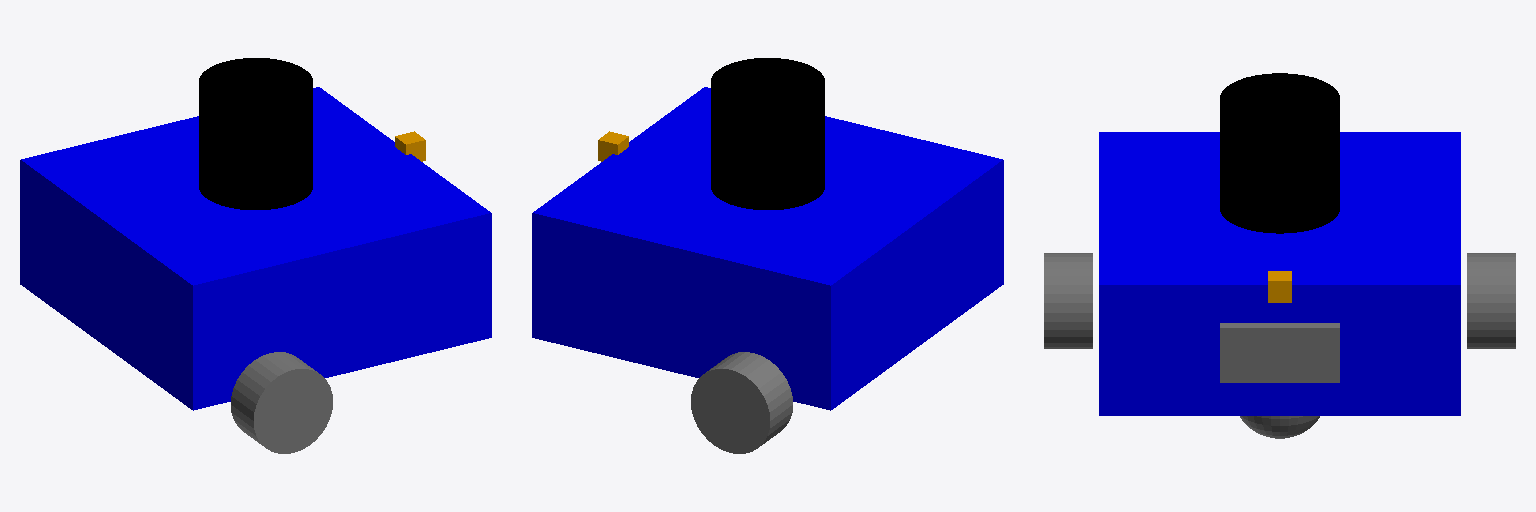
The robot description file, URDF, robot "my_robot":
<?xml version="1.0" ?> <!-- =================================================================================== --> <!-- |    This document was autogenerated by xacro from /ros2_ws/install/my_robot_description/share/my_robot_description/urdf/my_robot.urdf.xacro | --> <!-- |    EDITING THIS FILE BY HAND IS NOT RECOMMENDED                                 | --> <!-- =================================================================================== --> <!-- Dummy commit --> <robot name="my_robot"> <!-- Added xacro function for modularity --> <material name="red"> <color rgba="1 0 0 1"/> </material> <material name="blue"> <color rgba="0 0 1 1"/> </material> <material name="grey"> <color rgba="0.5 0.5 0.5 1"/> </material> <material name="black"> <color rgba="0 0 0 1"/> </material> <link name="base_link"> <visual> <geometry> <box size="0.3 0.3 0.12"/> </geometry> <origin rpy="0 0 0" xyz="0 0 0.06"/> <material name="blue"/> </visual> <inertial> <mass value="5.0"/> <origin rpy="0 0 0" xyz="0 0 0.06"/> <inertia ixx="0.04349999999999999" ixy="0.0" ixz="0.0" iyy="0.04349999999999999" iyz="0.0" izz="0.075"/> </inertial> <collision> <geometry> <box size="0.3 0.3 0.12"/> </geometry> <origin rpy="0 0 0" xyz="0 0 0.06"/> </collision> </link> <link name="base_footprint"> </link> <link name="right_wheel_link"> <visual> <geometry> <cylinder length="0.04" radius="0.04"/> </geometry> <origin rpy="1.5708 0 0" xyz="0 0 0"/> <material name="grey"/> </visual> <inertial> <mass value="1.0"/> <origin rpy="1.5708 0 0" xyz="0 0 0"/> <inertia ixx="0.0005333333333333333" ixy="0.0" ixz="0.0" iyy="0.0005333333333333333" iyz="0.0" izz="0.0008"/> </inertial> <collision> <geometry> <cylinder length="0.04" radius="0.04"/> </geometry> <origin rpy="1.5708 0 0" xyz="0 0 0"/> </collision> </link> <link name="left_wheel_link"> <visual> <geometry> <cylinder length="0.04" radius="0.04"/> </geometry> <origin rpy="1.5708 0 0" xyz="0 0 0"/> <material name="grey"/> </visual> <inertial> <mass value="1.0"/> <origin rpy="1.5708 0 0" xyz="0 0 0"/> <inertia ixx="0.0005333333333333333" ixy="0.0" ixz="0.0" iyy="0.0005333333333333333" iyz="0.0" izz="0.0008"/> </inertial> <collision> <geometry> <cylinder length="0.04" radius="0.04"/> </geometry> <origin rpy="1.5708 0 0" xyz="0 0 0"/> </collision> </link> <link name="castor_wheel_link"> <visual> <geometry> <sphere radius="0.04"/> </geometry> <origin rpy="0 0 0" xyz="0 0 0"/> <material name="grey"/> </visual> <inertial> <mass value="0.5"/> <origin rpy="0 0 0" xyz="0 0 -0.04"/> <inertia ixx="0.00032" ixy="0.0" ixz="0.0" iyy="0.00032" iyz="0.0" izz="0.00032"/> </inertial> <collision> <geometry> <sphere radius="0.04"/> </geometry> <origin rpy="0 0 0" xyz="0 0 0"/> </collision> </link> <joint name="base_to_right_wheel" type="continuous"> <parent link="base_link"/> <child link="right_wheel_link"/> <origin rpy="0 0 0" xyz="-0.075 -0.175 0"/> <axis xyz="0 1 0"/> <limit effort="10.0" velocity="10.0"/> <dynamics damping="1.0" friction="1.0"/> </joint> <joint name="base_to_left_wheel" type="continuous"> <parent link="base_link"/> <child link="left_wheel_link"/> <origin rpy="0 0 0" xyz="-0.075 0.175 0"/> <axis xyz="0 1 0"/> <limit effort="10.0" velocity="10.0"/> <dynamics damping="1.0" friction="1.0"/> </joint> <joint name="base_to_castor_wheel" type="fixed"> <parent link="base_link"/> <child link="castor_wheel_link"/> <origin rpy="0 0 0" xyz="0.09999999999999999 0 0"/> </joint> <joint name="base_joint" type="fixed"> <parent link="base_footprint"/> <child link="base_link"/> <origin rpy="0 0 0" xyz="0 0 0.04"/> <axis xyz="0 0 1"/> </joint> <!-- ================= ROS2 CONTROL ================= --> <ros2_control name="MobileBaseHardware" type="system"> <hardware> <plugin>gz_ros2_control/GazeboSimSystem</plugin> <!-- <param name='serial_port'>/dev/ttyUSB0</param> <param name='baud_rate'>115200</param> <param name='counts_per_rev'>1260.0</param> <param name='wheel_radius'>0.035</param> <param name='wheel_base'>0.34</param> --> </hardware> <joint name="base_to_left_wheel"> <command_interface name="velocity"/> <state_interface name="position"/> <state_interface name="velocity"/> <state_interface name="effort"/> </joint> <joint name="base_to_right_wheel"> <command_interface name="velocity"/> <state_interface name="position"/> <state_interface name="velocity"/> <state_interface name="effort"/> </joint> </ros2_control> <!-- ================= GAZEBO PLUGIN ================= --> <!-- <gazebo> <plugin filename='gz_ros2_control-system' name='gz_ros2_control::GazeboSimROS2ControlPlugin'> <parameters>$(find my_robot_bringup)/config/my_robot_controllers.yaml</parameters> </plugin> </gazebo> --> <!-- ================= GAZEBO PLUGIN ================= --> <gazebo> <plugin filename="/opt/ros/jazzy/lib/libgz_ros2_control-system.so" name="gz_ros2_control::GazeboSimROS2ControlPlugin"> <parameters>/ros2_ws/install/my_robot_bringup/share/my_robot_bringup/config/my_robot_controllers.yaml</parameters> </plugin> </gazebo> <link name="camera_link"> <visual> <geometry> <box size="0.01 0.1 0.05"/> </geometry> <material name="grey"/> </visual> <collision> <geometry> <box size="0.01 0.1 0.05"/> </geometry> </collision> <inertial> <mass value="0.1"/> <origin rpy="0 0 0" xyz="0 0 0"/> <inertia ixx="0.00010416666666666669" ixy="0.0" ixz="0.0" iyy="2.166666666666667e-05" iyz="0.0" izz="8.416666666666668e-05"/> </inertial> </link> <joint name="base_camera_joint" type="fixed"> <parent link="base_link"/> <child link="camera_link"/> <origin rpy="0 0 0" xyz="0.155 0 0.06"/> </joint> <link name="camera_link_optical"/> <joint name="camera_optical_joint" type="fixed"> <origin rpy="-1.5707963267948966 0 -1.5707963267948966" xyz="0 0 0"/> <parent link="camera_link"/> <child link="camera_link_optical"/> </joint> <gazebo reference="camera_link"> <sensor name="camera" type="camera"> <camera> <horizontal_fov>1.3962634</horizontal_fov> <image> <width>640</width> <height>480</height> <format>R8G8B8</format> </image> <clip> <near>0.1</near> <far>15</far> </clip> <noise> <type>gaussian</type> <mean>0.0</mean> <stddev>0.007</stddev> </noise> <optical_frame_id>camera_link_optical</optical_frame_id> <camera_info_topic>/camera_info</camera_info_topic> </camera> <always_on>1</always_on> <update_rate>20</update_rate> <visualize>true</visualize> <topic>/camera</topic> </sensor> </gazebo> <!-- Lidar link --> <link name="lidar_link"> <visual> <geometry> <cylinder length="0.1" radius="0.05"/> </geometry> <origin rpy="0 0 0" xyz="0 0 0"/> <material name="black"/> </visual> <collision> <geometry> <cylinder length="0.1" radius="0.05"/> </geometry> <origin rpy="0 0 0" xyz="0 0 0"/> </collision> <inertial> <mass value="0.5"/> <origin rpy="0 0 0" xyz="0 0 0"/> <inertia ixx="0.0007291666666666667" ixy="0.0" ixz="0.0" iyy="0.0007291666666666667" iyz="0.0" izz="0.0006250000000000001"/> </inertial> </link> <!-- Lidar joint (attach to base_link) --> <joint name="lidar_joint" type="fixed"> <parent link="base_link"/> <child link="lidar_link"/> <origin rpy="0 0 0" xyz="0 0 0.16999999999999998"/> </joint> <!-- Gazebo Lidar sensor plugin --> <gazebo reference="lidar_link"> <sensor name="lidar" type="gpu_lidar"> <gz_frame_id>lidar_link</gz_frame_id> <update_rate>20</update_rate> <visualize>true</visualize> <visualize_type>rays</visualize_type> <ray> <scan> <horizontal> <samples>360</samples> <resolution>1</resolution> <min_angle>-3.14159</min_angle> <max_angle>3.14159</max_angle> </horizontal> </scan> <range> <min>0.12</min> <max>3.5</max> <resolution>0.01</resolution> </range> <noise> <type>gaussian</type> <mean>0.0</mean> <stddev>0.01</stddev> </noise> </ray> </sensor> </gazebo> <link name="imu_link"> <visual> <geometry> <box size="0.02 0.02 0.02"/> </geometry> </visual> <collision> <geometry> <box size="0.02 0.02 0.02"/> </geometry> </collision> <inertial> <mass value="0.01"/> <origin xyz="0 0 0"/> <inertia ixx="0.00001" ixy="0" ixz="0" iyy="0.00001" iyz="0" izz="0.00001"/> </inertial> </link> <joint name="imu_joint" type="fixed"> <parent link="base_link"/> <child link="imu_link"/> <origin rpy="0 0 0" xyz="0.155 0 0.12"/> </joint> <gazebo reference="imu_link"> <sensor name="imu_sensor" type="imu"> <always_on>true</always_on> <update_rate>100</update_rate> <visualize>true</visualize> <topic>imu</topic> </sensor> </gazebo> <!-- <xacro:include filename='mobile_base_gazebo.xacro'/> --> </robot>

--- Facts derived from the render (not from the file) ---
The picture shows the robot from 3 angles, left to right: view 1: azimuth 30°, elevation 25°; view 2: azimuth 150°, elevation 25°; view 3: azimuth 270°, elevation 25°; orthographic projection.
Model my_robot with 9 links and 8 joints (2 continuous, 6 fixed), rooted at base_footprint, posed all joints at 0.
Visible links, largest first — view 1: base_link, lidar_link, right_wheel_link, imu_link; view 2: base_link, lidar_link, left_wheel_link, imu_link; view 3: base_link, lidar_link, camera_link, right_wheel_link, left_wheel_link, castor_wheel_link, imu_link.
Boxes of the visible links, x1=… form: base_link: x1=20, y1=87, x2=491, y2=410; lidar_link: x1=199, y1=58, x2=312, y2=209; right_wheel_link: x1=231, y1=352, x2=332, y2=453; imu_link: x1=395, y1=131, x2=425, y2=161; base_link: x1=532, y1=87, x2=1003, y2=410; lidar_link: x1=711, y1=58, x2=824, y2=209; left_wheel_link: x1=691, y1=352, x2=792, y2=453; imu_link: x1=598, y1=131, x2=628, y2=161; base_link: x1=1099, y1=132, x2=1460, y2=415; lidar_link: x1=1220, y1=73, x2=1339, y2=233; camera_link: x1=1220, y1=323, x2=1339, y2=382; right_wheel_link: x1=1044, y1=253, x2=1092, y2=348; left_wheel_link: x1=1467, y1=253, x2=1515, y2=348; castor_wheel_link: x1=1240, y1=416, x2=1319, y2=438; imu_link: x1=1268, y1=271, x2=1291, y2=302.
Bounding box of the posed robot: 0.315 × 0.39 × 0.26 m (x, y, z).
Geometry: primitives only (box / cylinder / sphere), no mesh files.
